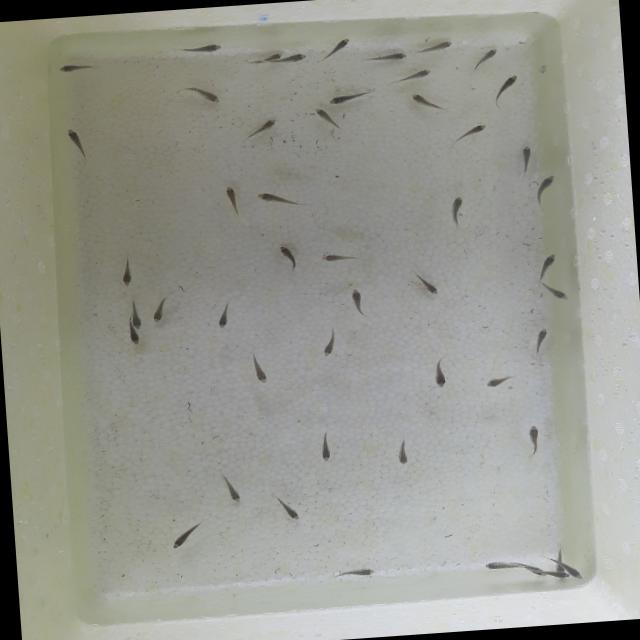fingerling: (315, 34, 353, 66), (489, 72, 522, 108), (244, 350, 273, 387), (428, 354, 455, 392), (254, 187, 300, 209), (179, 82, 221, 106), (450, 122, 492, 146), (219, 471, 247, 507), (245, 114, 283, 140), (327, 86, 379, 105), (64, 126, 90, 160), (314, 425, 336, 465), (178, 38, 224, 57), (312, 106, 344, 132), (392, 430, 413, 469), (168, 525, 199, 551), (534, 174, 560, 205), (272, 496, 300, 524), (329, 564, 378, 580), (318, 326, 340, 361), (220, 183, 243, 216), (318, 248, 364, 264), (276, 243, 301, 272), (148, 294, 172, 324), (395, 67, 434, 85), (524, 422, 544, 457), (530, 325, 552, 356), (348, 285, 369, 317), (118, 252, 136, 288), (55, 60, 97, 75), (448, 194, 466, 229), (479, 372, 515, 389), (479, 557, 514, 574), (368, 50, 410, 64), (472, 47, 500, 67), (540, 278, 568, 298), (418, 275, 442, 298), (514, 564, 548, 580), (408, 91, 438, 109), (518, 142, 534, 174), (215, 300, 232, 330), (420, 38, 454, 52), (536, 255, 556, 278), (128, 298, 142, 330), (284, 51, 308, 65), (548, 568, 570, 582), (127, 331, 143, 348), (256, 52, 282, 62), (570, 568, 588, 582)
